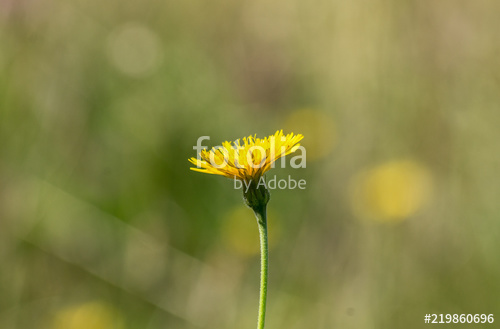dandelion: (190, 140, 301, 178)
